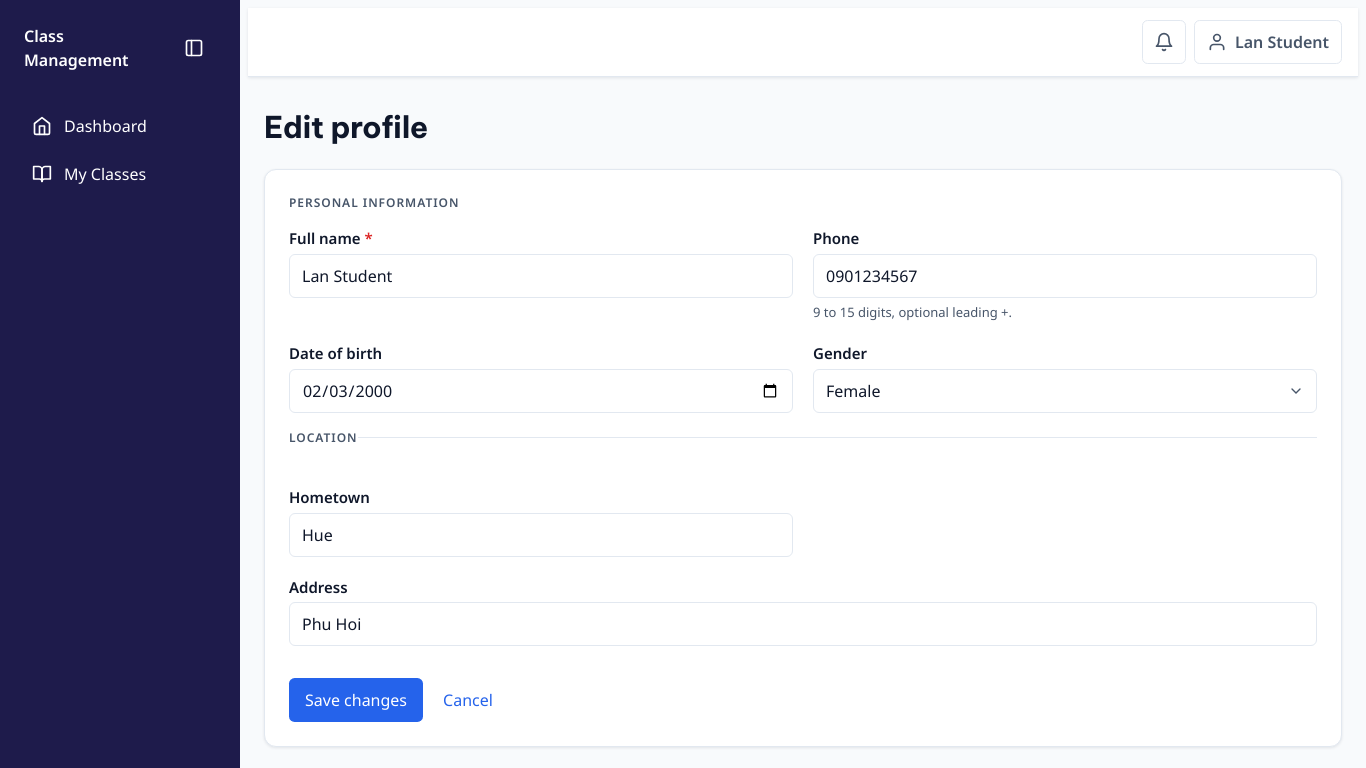
Test: Profile › omits immutable fields from edit and PATCHes profile-only data
expect the field labelled "Email" is not shown: met
expect the field labelled "Role" is not shown: met
Replace the text in the field labelled "Full name" with "Lan Nguyen" at point(541, 276), box left=289, top=254, right=793, bottom=298
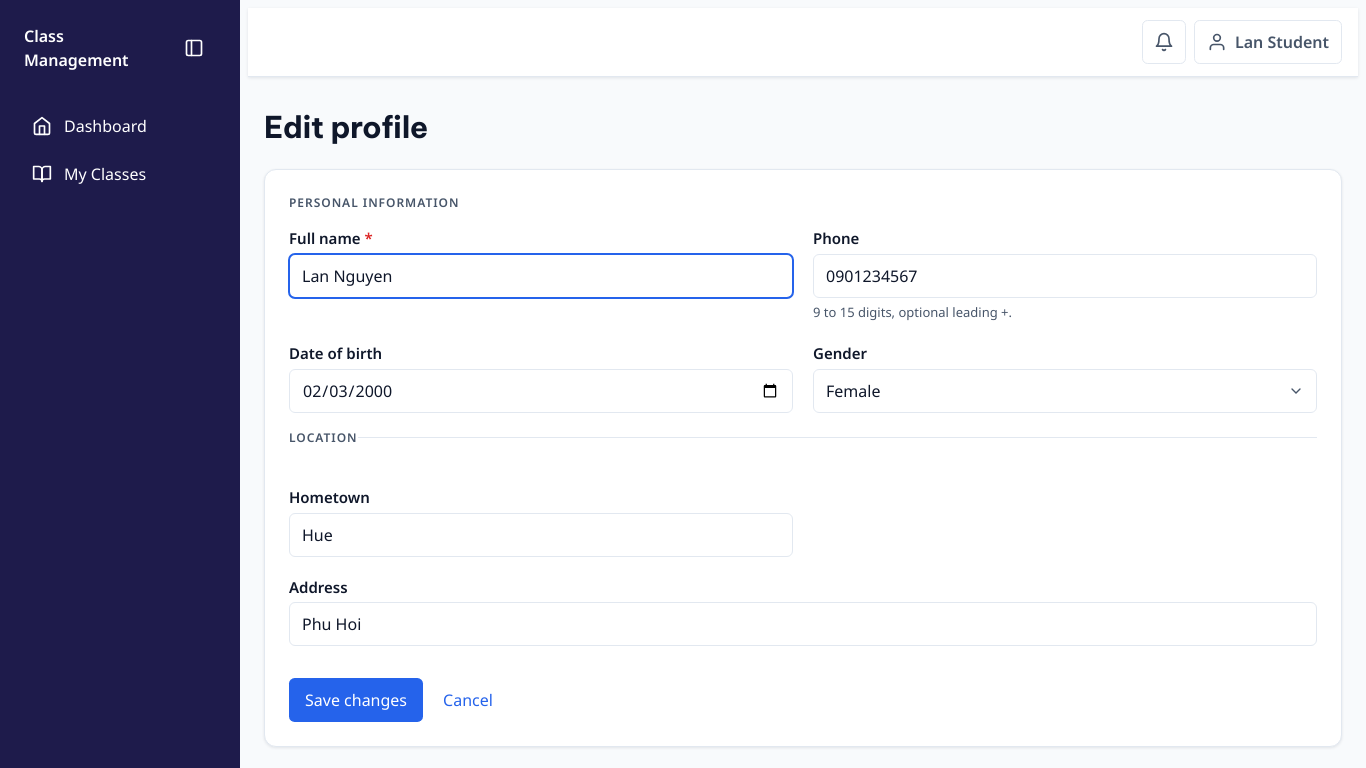
Click the button "Save changes" at point(356, 700), box left=289, top=678, right=423, bottom=722
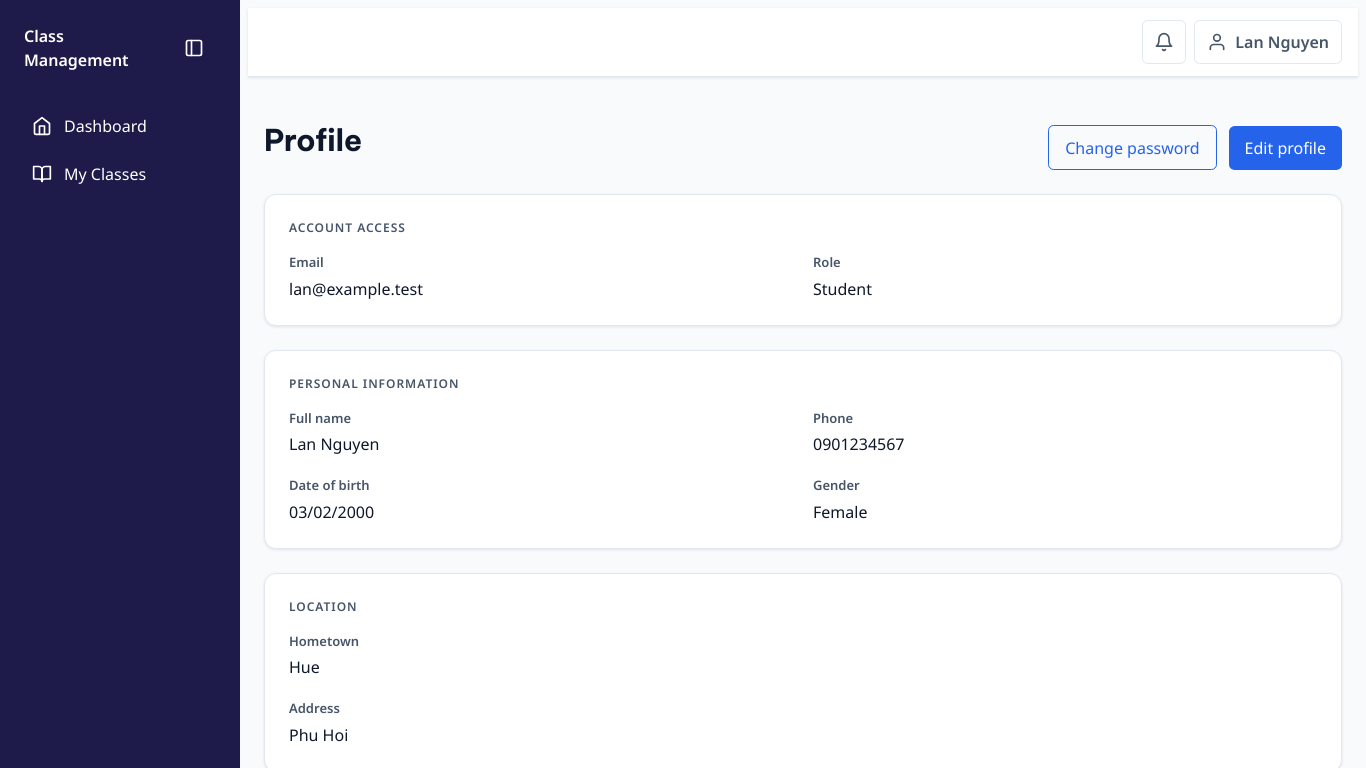
expect the heading "Profile" is shown: met, box left=264, top=122, right=362, bottom=158
expect the 1st text "Lan Nguyen" is shown: met, box left=1235, top=30, right=1329, bottom=54
